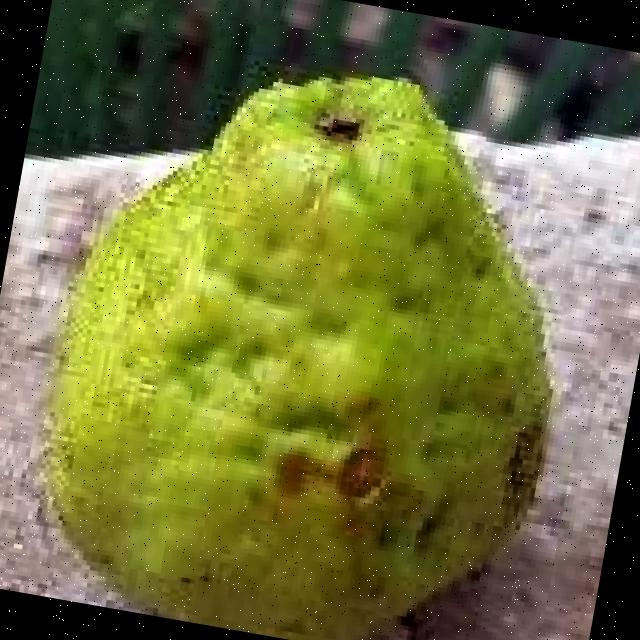Good_Guava 5-7 days: (44, 76, 549, 640)
